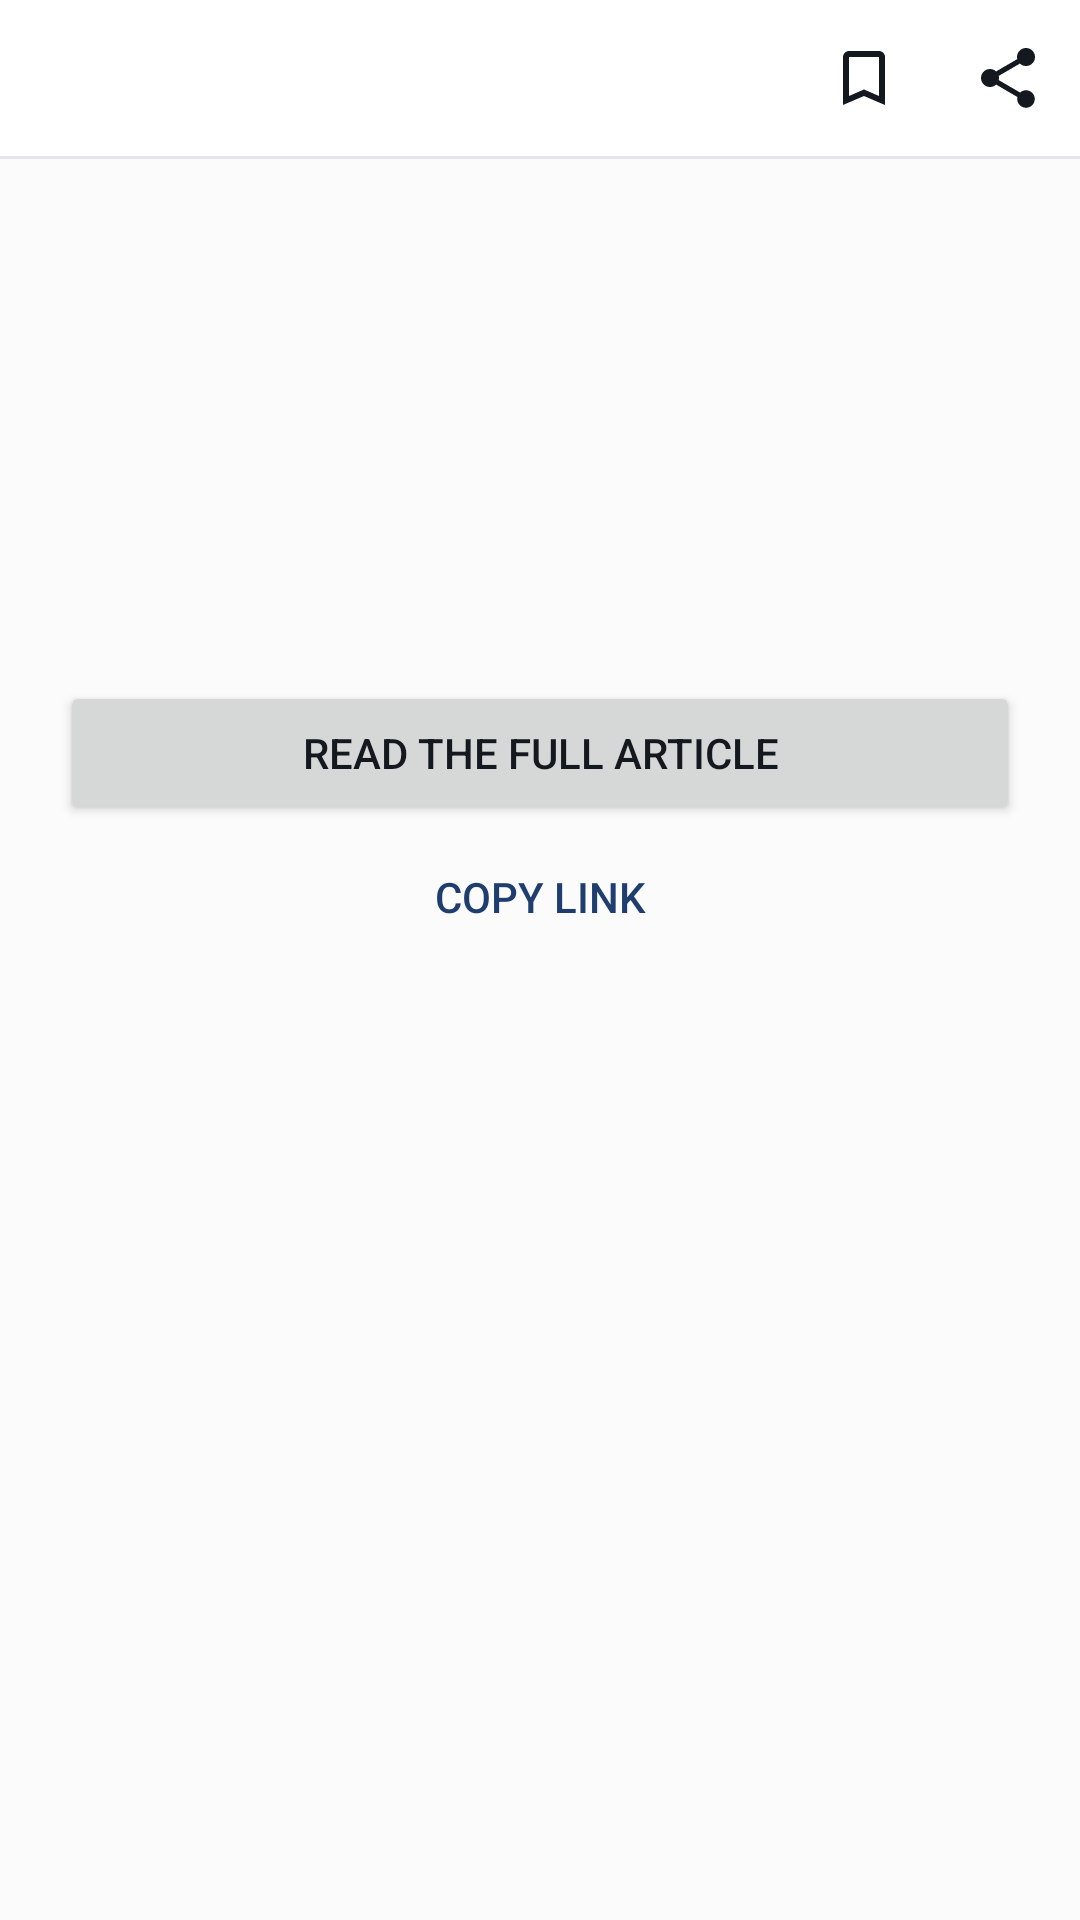

Named icons in this screenshot (1080x1920) and their bounding boxes, [left=x1, top=y1, right=x2, bottom=y2]:
Save story: [left=843, top=51, right=885, bottom=105]
Share: [left=981, top=48, right=1035, bottom=108]
